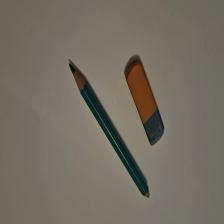eraser: (126, 62, 165, 148)
pencil: (70, 64, 151, 200)
